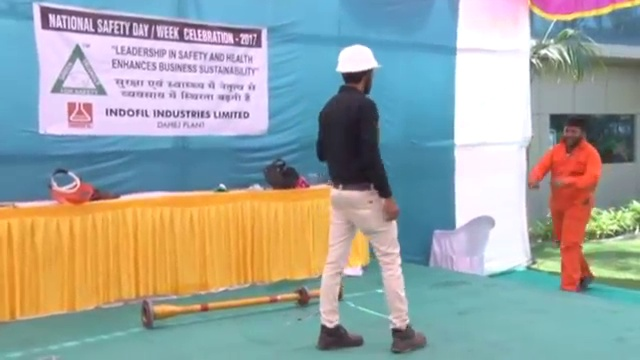helmet: (333, 43, 383, 76)
helmet_off: (558, 115, 586, 150)
helmet_on: (333, 43, 384, 96)
person: (313, 44, 431, 350), (527, 115, 603, 294)
